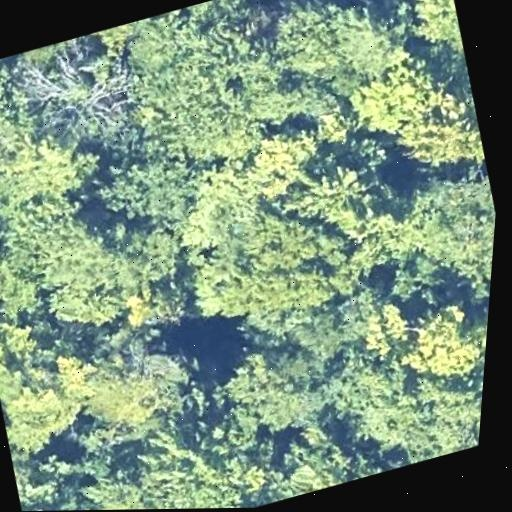tree-top: (114, 0, 310, 183), (310, 324, 487, 483), (194, 194, 366, 337), (362, 150, 500, 320), (338, 44, 493, 191), (47, 315, 198, 442), (195, 325, 342, 454), (11, 35, 155, 157), (78, 423, 263, 510), (43, 204, 190, 310), (250, 405, 390, 503), (274, 139, 398, 244), (390, 285, 490, 399), (95, 143, 212, 233), (0, 127, 106, 219), (314, 0, 424, 86), (385, 0, 470, 71), (6, 440, 76, 511), (0, 54, 37, 167), (0, 211, 20, 312), (21, 494, 92, 511)
